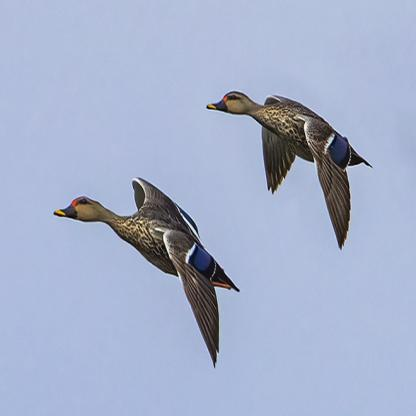Burung: (53, 176, 239, 366)
